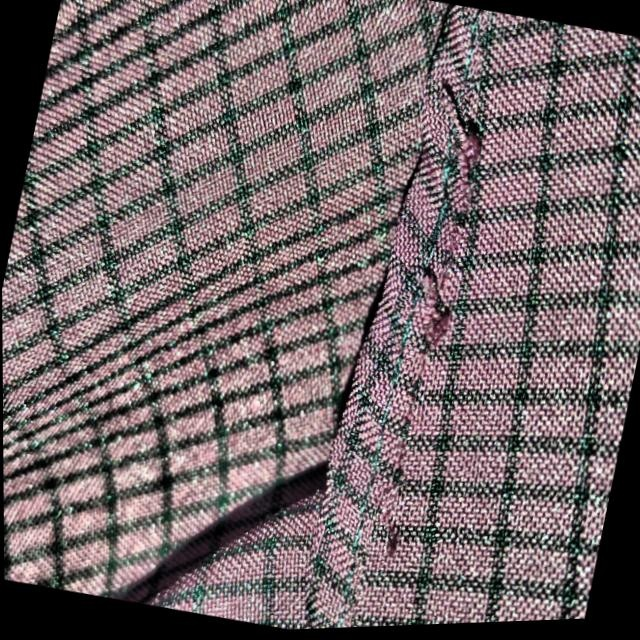Stitch: (379, 241, 501, 388), (410, 62, 532, 204)
